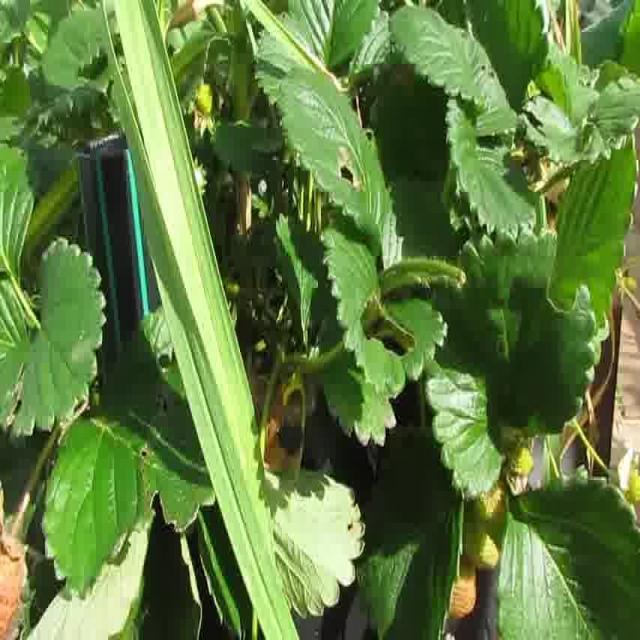Fruta sana: (444, 542, 476, 618), (472, 481, 508, 544), (460, 518, 500, 566), (506, 446, 534, 474), (194, 82, 213, 117), (624, 467, 640, 503), (623, 277, 637, 293)
Moho gris: (0, 528, 29, 640)
